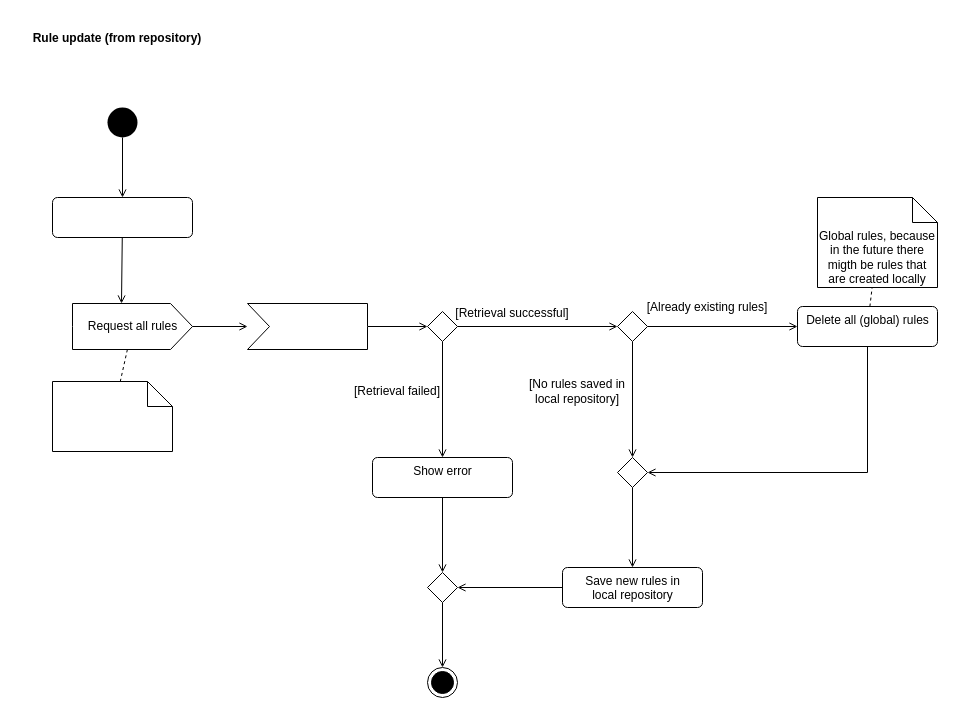
Some shapes in this 955 by 715 pixel diagram are drawn without their labels. Each missing label, with the centre of its shape:
Communication with rule repository: the point at 112,416
Receive rules: the point at 307,326
Update the rules triggert: the point at 122,217
